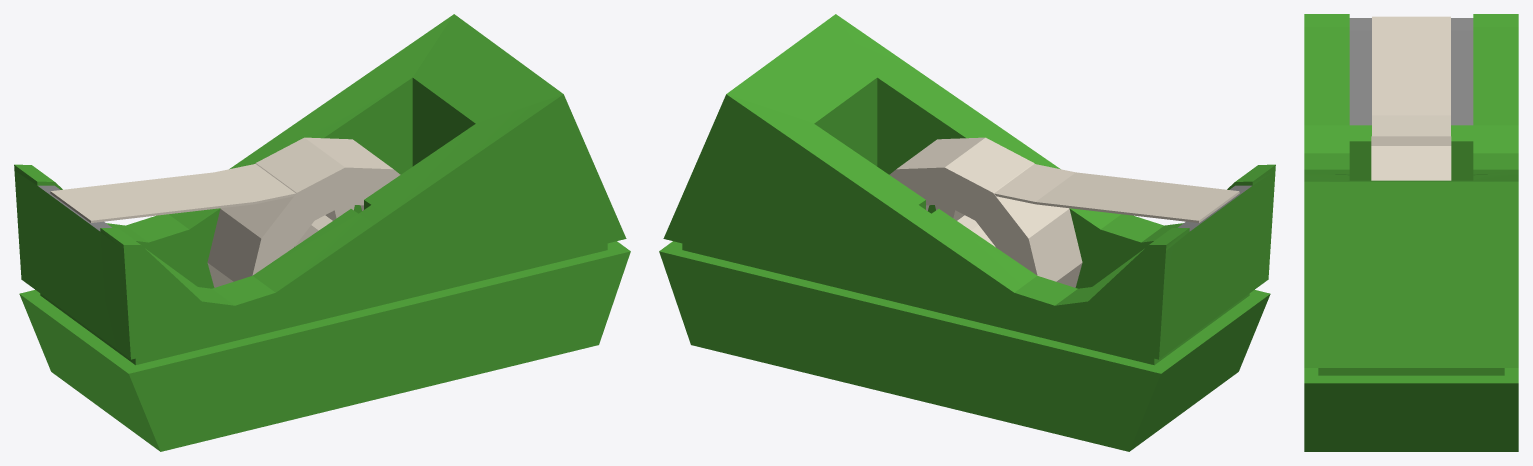
Rendered from TapeDispenser_02.fbx.
3 views of the same model, side by side, from view 1: azimuth 30°, elevation 25°; view 2: azimuth 150°, elevation 25°; view 3: azimuth 270°, elevation 25° (orthographic). The views are drawn at different scales.
Parts seen in each view (by area): view 1: TapeDispenser_01; view 2: TapeDispenser_01; view 3: TapeDispenser_01.
Part boxes in pixels (x1,y1,x2,y2): TapeDispenser_01: (14, 14, 630, 451); TapeDispenser_01: (659, 14, 1275, 451); TapeDispenser_01: (1304, 14, 1518, 451).
Bounding box in the file's own units: 2 × 0.9795 × 0.7496.
